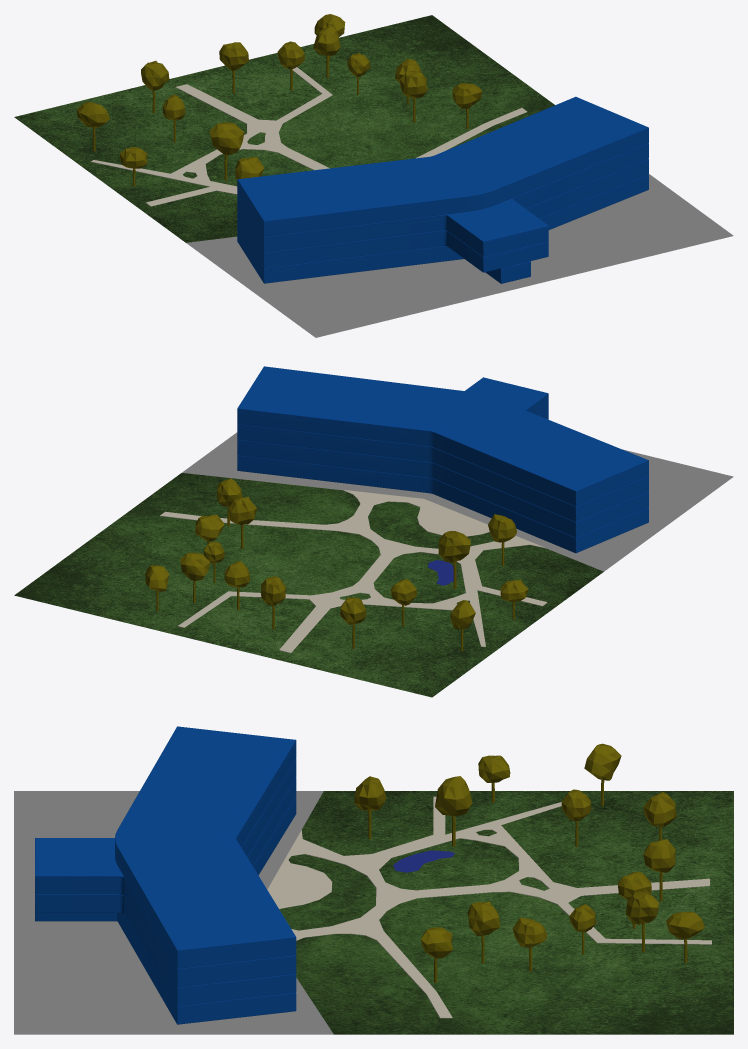
3 renders of one model, top to bottom at view 1: azimuth 30°, elevation 25°; view 2: azimuth 150°, elevation 25°; view 3: azimuth 270°, elevation 25°, orthographic. The views are drawn at different scales.
Visible parts, largest first — view 1: park, floor_3, building_base, floor_2, floor_1, floor_0, paths, tree010, tree008, tree012, tree007, tree005 (+6 smaller); view 2: park, floor_3, paths, building_base, floor_2, floor_1, floor_0, tree010, tree01, tree013, tree005, tree007 (+8 smaller); view 3: park, floor_3, building_base, paths, floor_2, floor_1, floor_0, tree010, tree012, tree005, tree007, tree013 (+10 smaller).
Boxes of the visible parts, <box> form: park: <box>14,15,554,242</box>; floor_3: <box>237,96,648,236</box>; building_base: <box>186,174,733,337</box>; floor_2: <box>237,143,648,256</box>; floor_1: <box>237,159,648,272</box>; floor_0: <box>237,174,648,283</box>; paths: <box>91,67,527,206</box>; tree010: <box>209,122,244,180</box>; tree008: <box>141,60,169,113</box>; tree012: <box>77,102,109,151</box>; tree007: <box>219,42,248,93</box>; tree005: <box>400,70,427,122</box>; park: <box>14,473,603,697</box>; floor_3: <box>237,366,648,506</box>; paths: <box>160,489,547,653</box>; building_base: <box>182,432,733,571</box>; floor_2: <box>237,377,648,521</box>; floor_1: <box>237,409,648,537</box>; floor_0: <box>237,455,648,553</box>; tree010: <box>438,531,470,588</box>; tree01: <box>180,552,210,602</box>; tree013: <box>488,514,516,566</box>; tree005: <box>229,497,256,548</box>; tree007: <box>261,576,286,629</box>; park: <box>279,791,733,1034</box>; floor_3: <box>115,726,296,968</box>; building_base: <box>14,791,333,1034</box>; paths: <box>267,796,711,1018</box>; floor_2: <box>35,759,296,987</box>; floor_1: <box>35,777,296,1005</box>; floor_0: <box>35,796,296,1024</box>; tree010: <box>435,776,472,846</box>; tree012: <box>584,743,621,806</box>; tree005: <box>467,901,500,963</box>; tree007: <box>644,839,675,901</box>; tree013: <box>354,776,386,839</box>.
Bounding box in the file's own units: 2.8 × 0.4 × 3.5.
6 materials, 2 textured.
